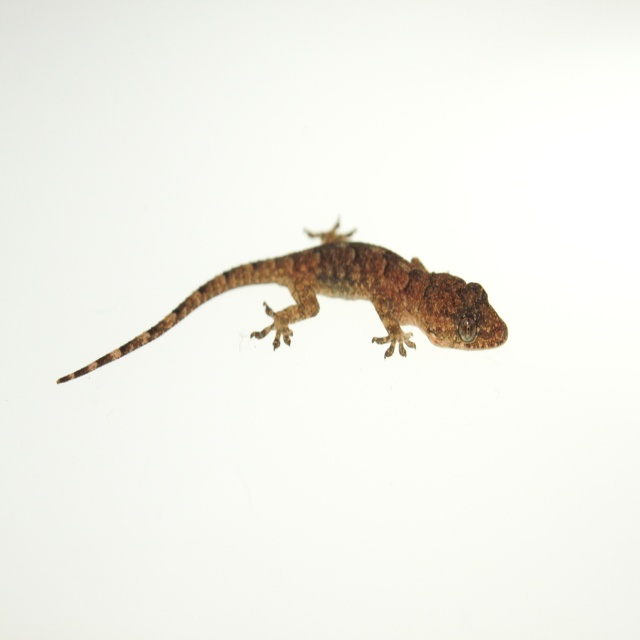Lizard: (58, 218, 506, 384)
